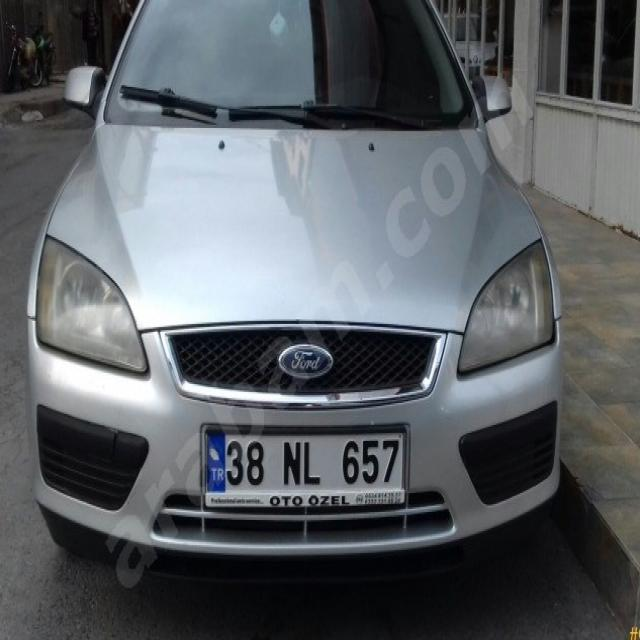license_plate: (206, 431, 406, 494)
